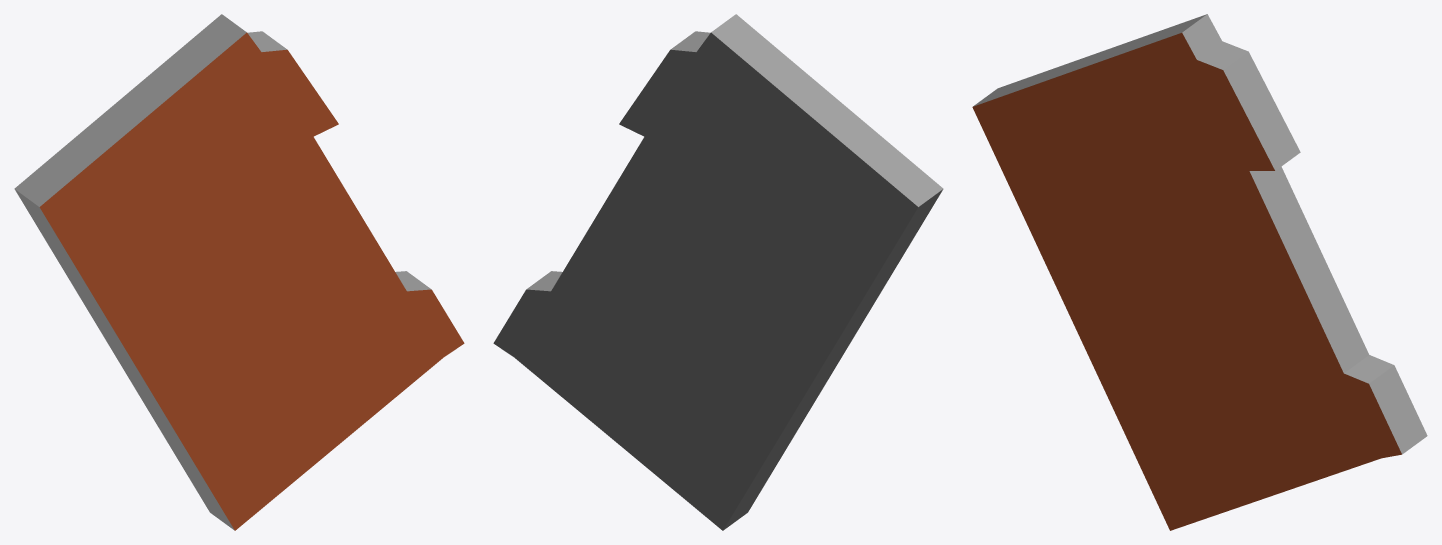
File: construction_0166_assumed_A_Construcoes_desportivas_h6m.obj
3 renders of one model, left to right at view 1: azimuth 30°, elevation 25°; view 2: azimuth 150°, elevation 25°; view 3: azimuth 330°, elevation 25°, orthographic.
Parts seen in each view (by area): view 1: construction_0166_assumed_A_Construcoes_desportivas; view 2: construction_0166_assumed_A_Construcoes_desportivas; view 3: construction_0166_assumed_A_Construcoes_desportivas.
Part boxes in pixels (x1,y1,x2,y2): construction_0166_assumed_A_Construcoes_desportivas: (14, 14, 464, 530); construction_0166_assumed_A_Construcoes_desportivas: (493, 14, 943, 530); construction_0166_assumed_A_Construcoes_desportivas: (972, 14, 1427, 530).
Bounding box in the file's own units: 58.5 × 65.18 × 6.
